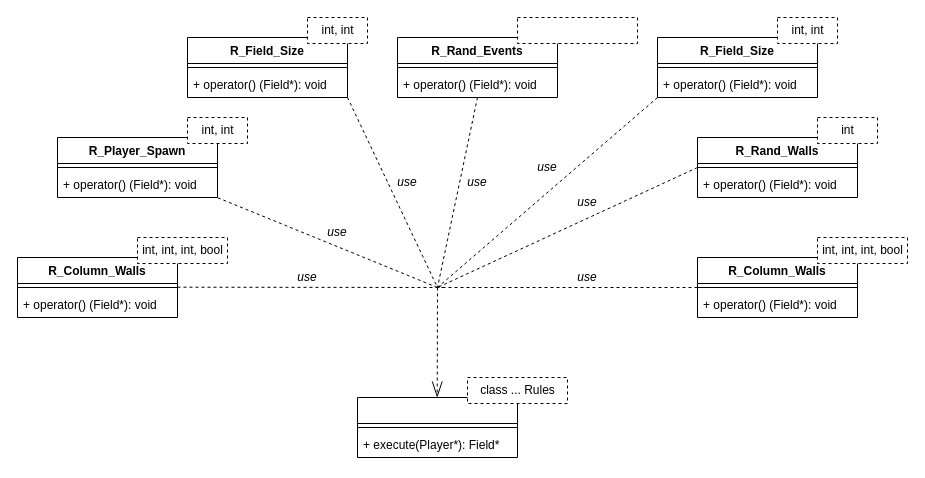
This 925x478 diagram has some shape labels left out. Here are the shapes that lost their labels. From the top down, the box of each, then its label:
(516, 16, 638, 44): Gen_Event: class, int
(356, 396, 518, 458): FieldGen
